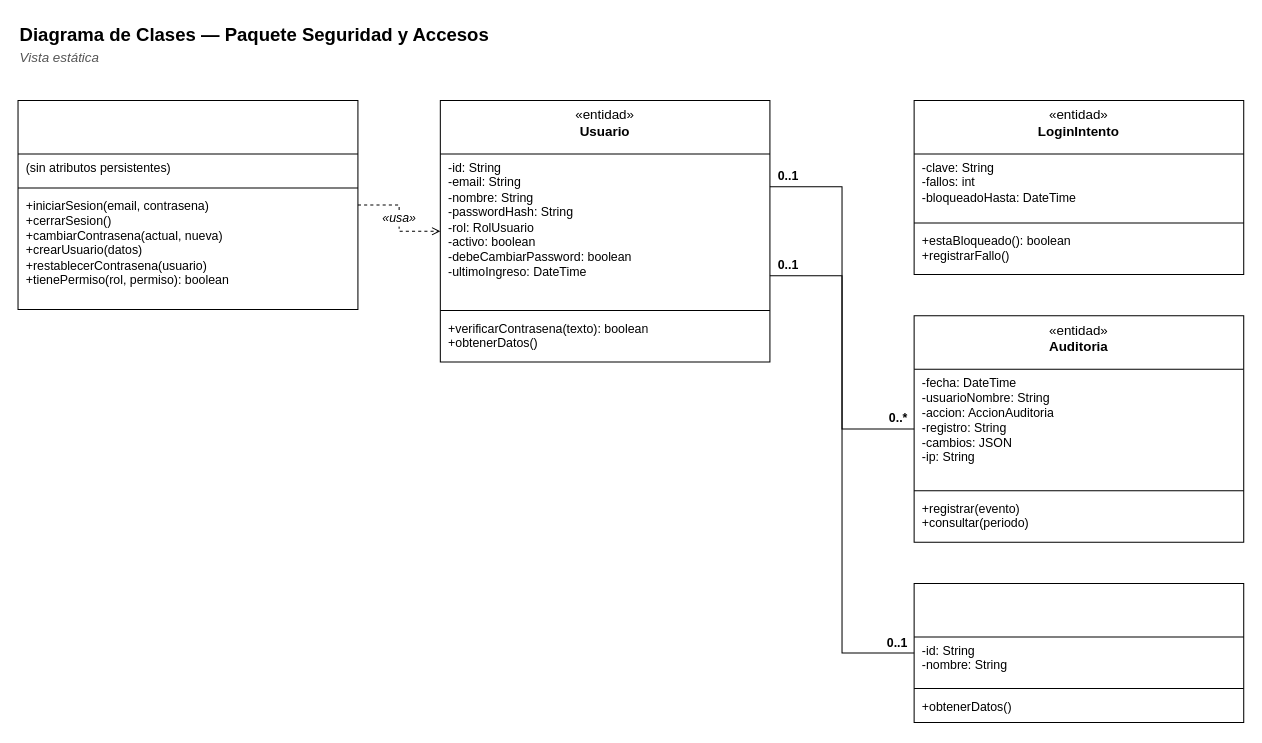
Image size: 1262x743. Some labels were removed from this diagram. Each missing label, with the box of its shape:
«control» GestorAccesos: (17, 99, 358, 310)
«entidad» Profesional: (913, 582, 1244, 723)
